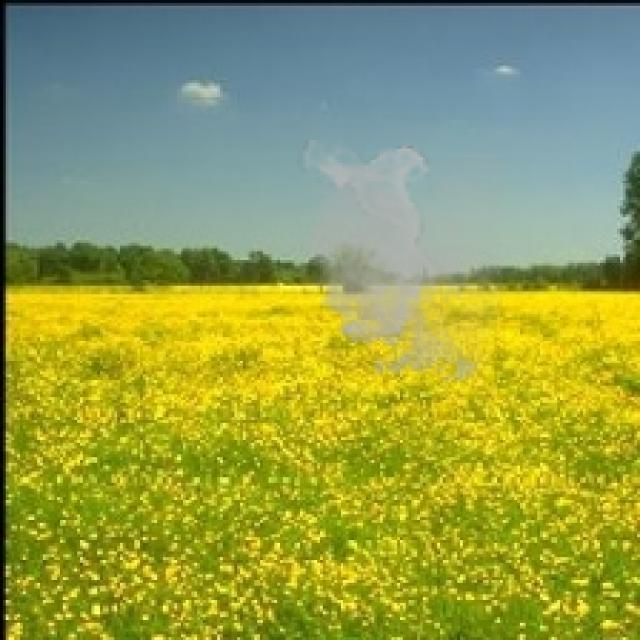Smoke: (291, 140, 503, 392)
